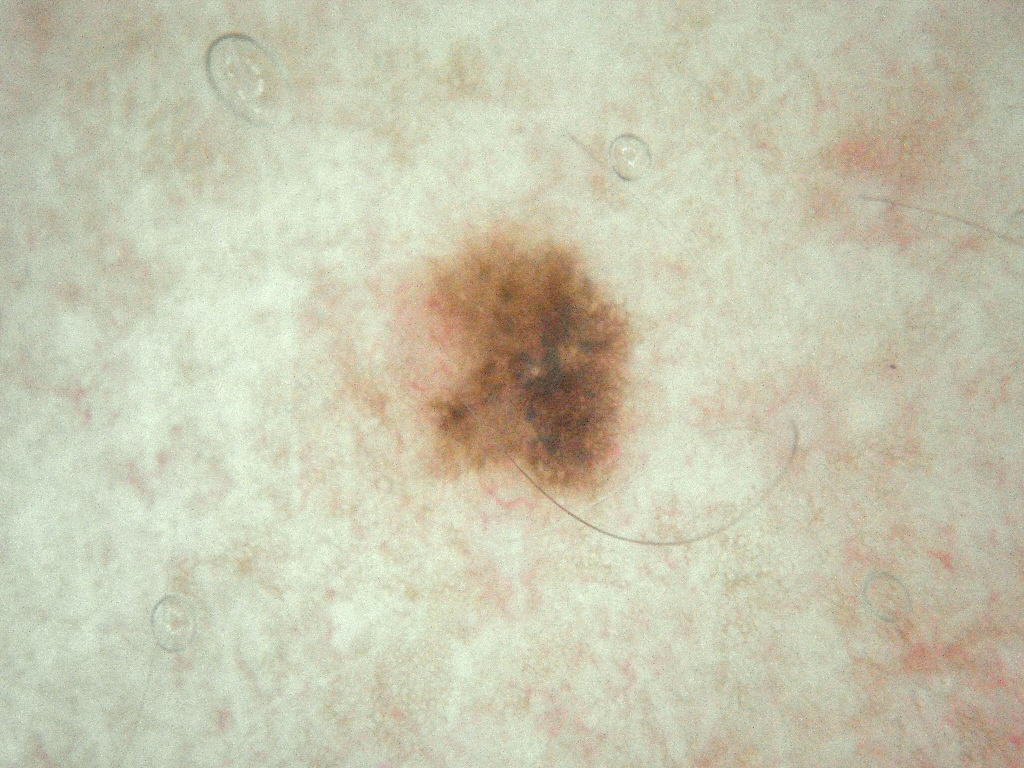Detected Lesion: (401, 228, 641, 509)
